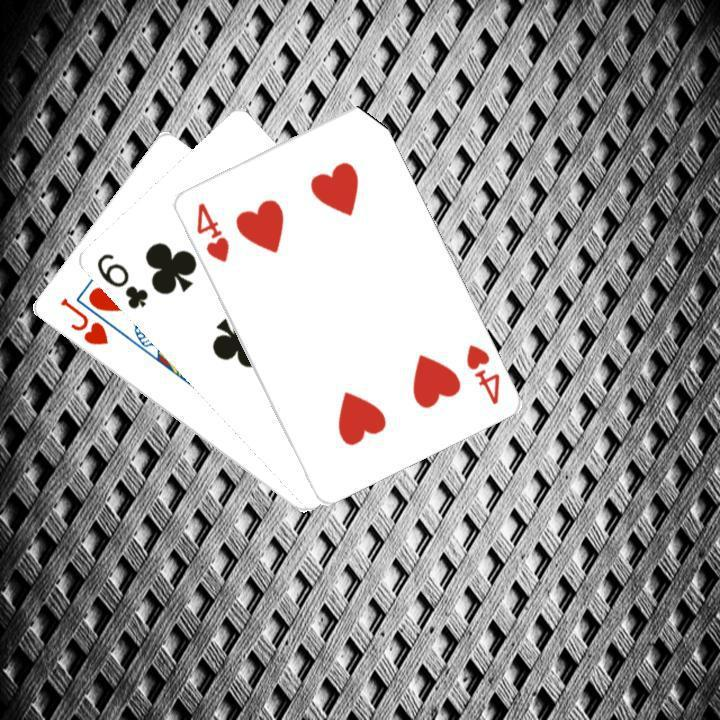4: (461, 339, 502, 406), (191, 198, 231, 264)
6: (91, 249, 150, 311)
J: (55, 293, 110, 348)
